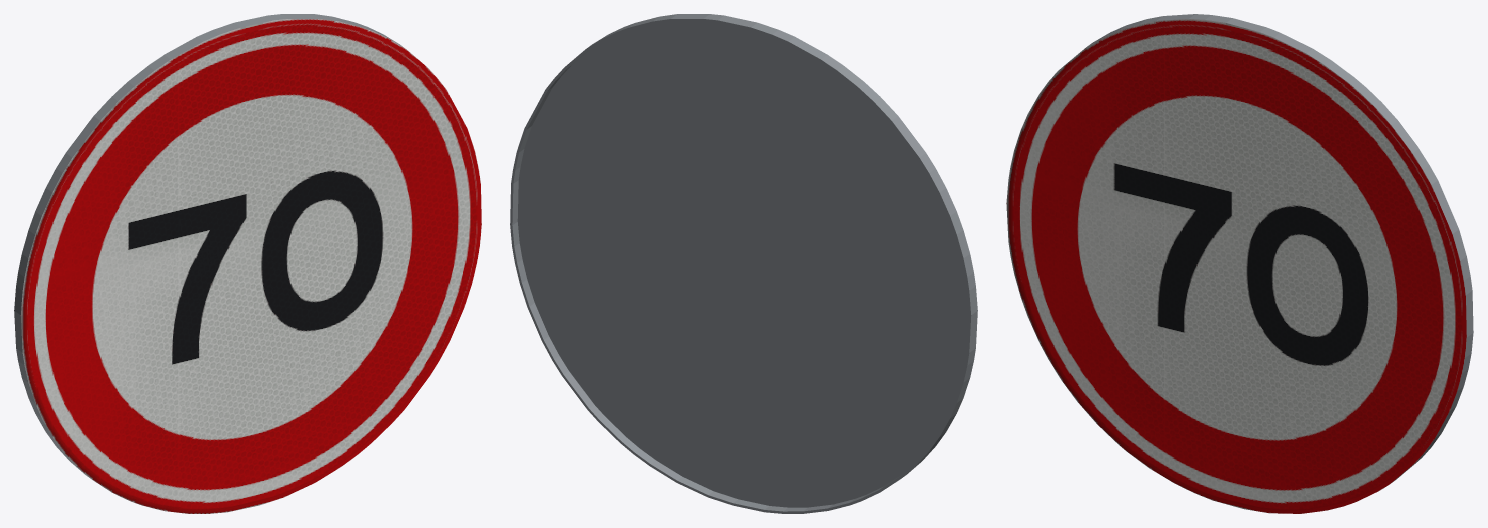
The picture shows the model from 3 angles, left to right: view 1: azimuth 30°, elevation 25°; view 2: azimuth 150°, elevation 25°; view 3: azimuth 330°, elevation 25°; orthographic projection.
Visible parts, largest first — view 1: cat_3947be96a703987a; view 2: cat_3947be96a703987a; view 3: cat_3947be96a703987a.
Part boxes in pixels (box(x1,y1,x2,y2)): cat_3947be96a703987a: box(14, 14, 481, 513); cat_3947be96a703987a: box(510, 14, 977, 513); cat_3947be96a703987a: box(1006, 14, 1473, 513).
Size of the model in its own units: 0.6 by 0.015 by 0.6.
Materials: 2 (1 with a texture image).
